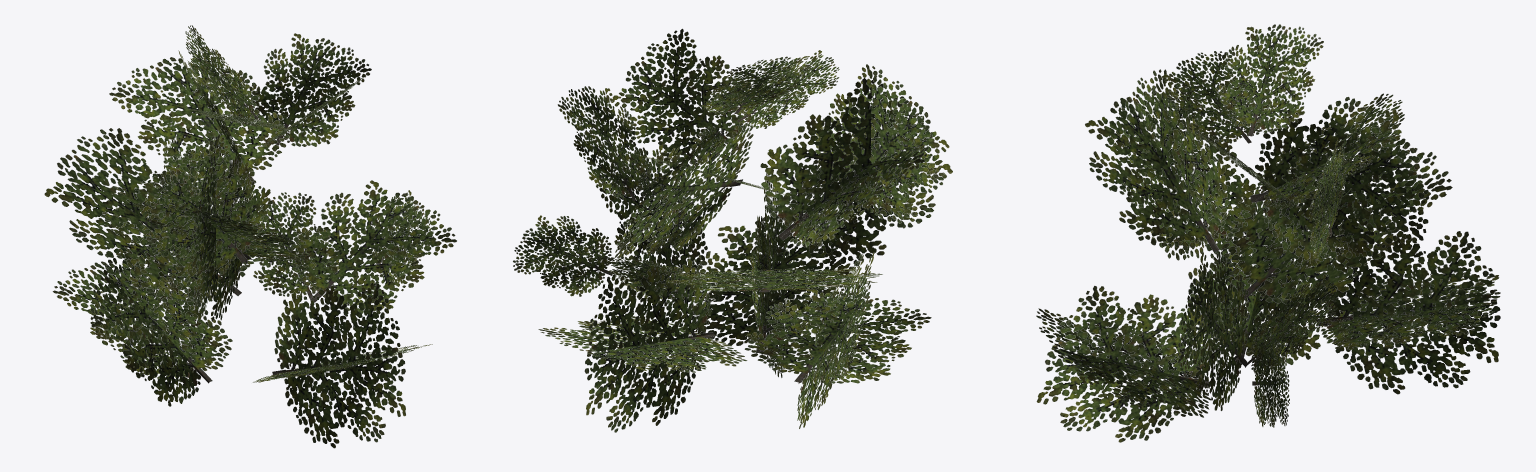
Rendered from krone.obj.
3 renders of one model, left to right at view 1: azimuth 30°, elevation 25°; view 2: azimuth 150°, elevation 25°; view 3: azimuth 270°, elevation 25°, orthographic. The views are drawn at different scales.
Size of the model in its own units: 1141 by 1080 by 1216.
1 material, 1 textured.
